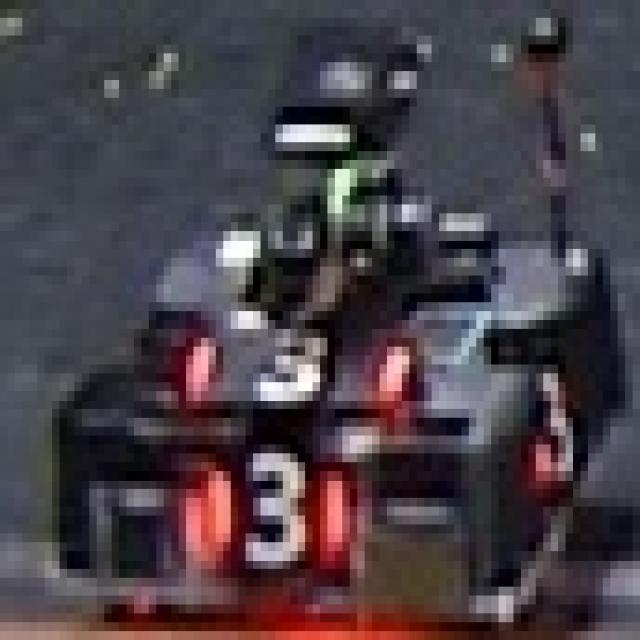R3: (193, 435, 350, 569)
